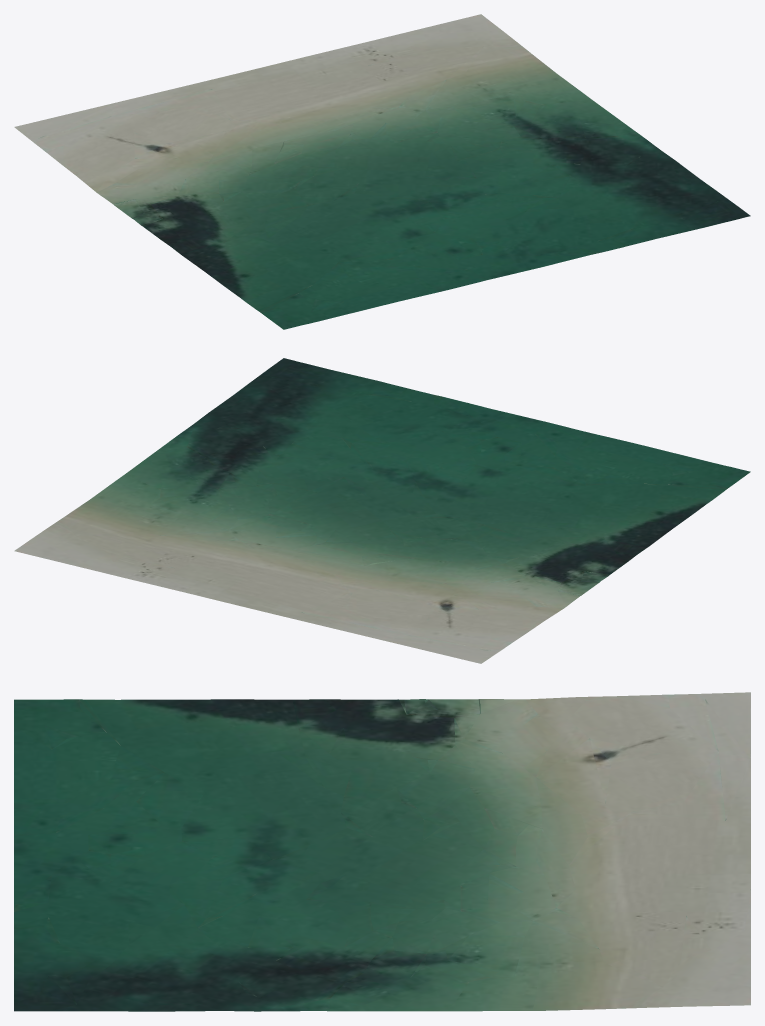
3 views of the same model, one above another, from view 1: azimuth 30°, elevation 25°; view 2: azimuth 150°, elevation 25°; view 3: azimuth 270°, elevation 25° (orthographic). The views are drawn at different scales.
Bounding box in the file's own units: 209 × 2.5 × 209.
3 materials, 3 textured.
